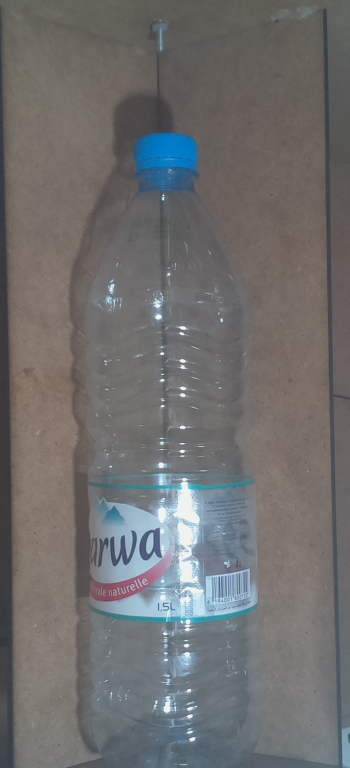Bouteille_1.5L: (70, 129, 266, 768)
